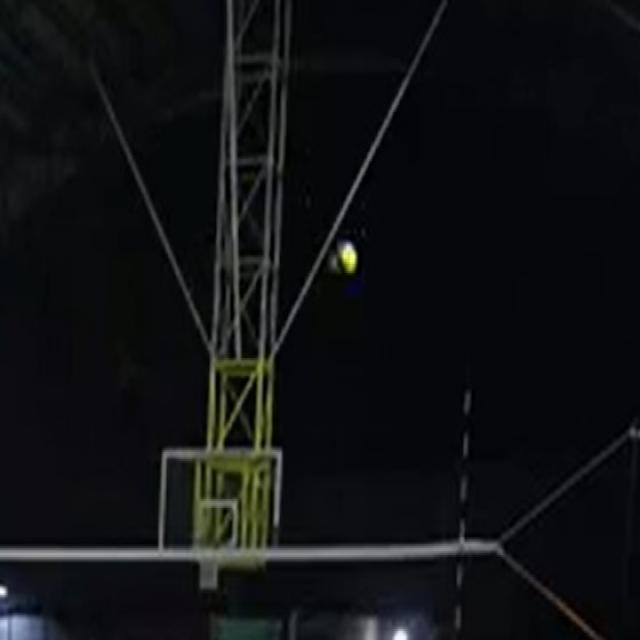volleyball: (327, 243, 357, 280)
